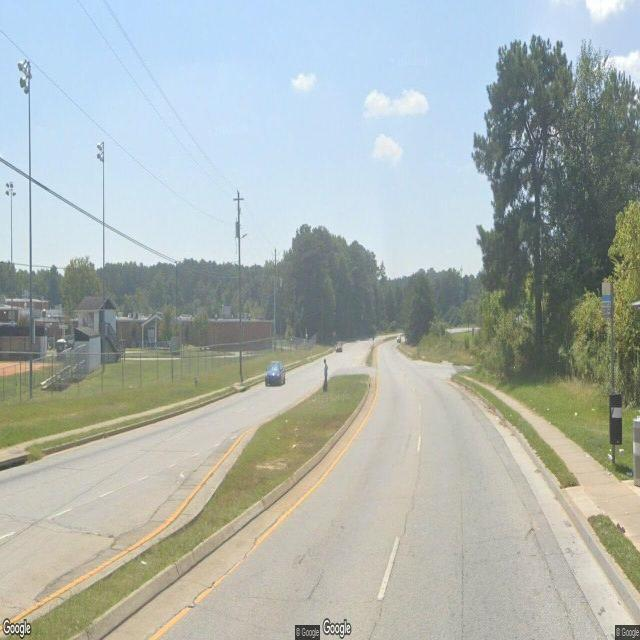trash_can: (610, 394, 622, 446), (633, 413, 640, 488)
